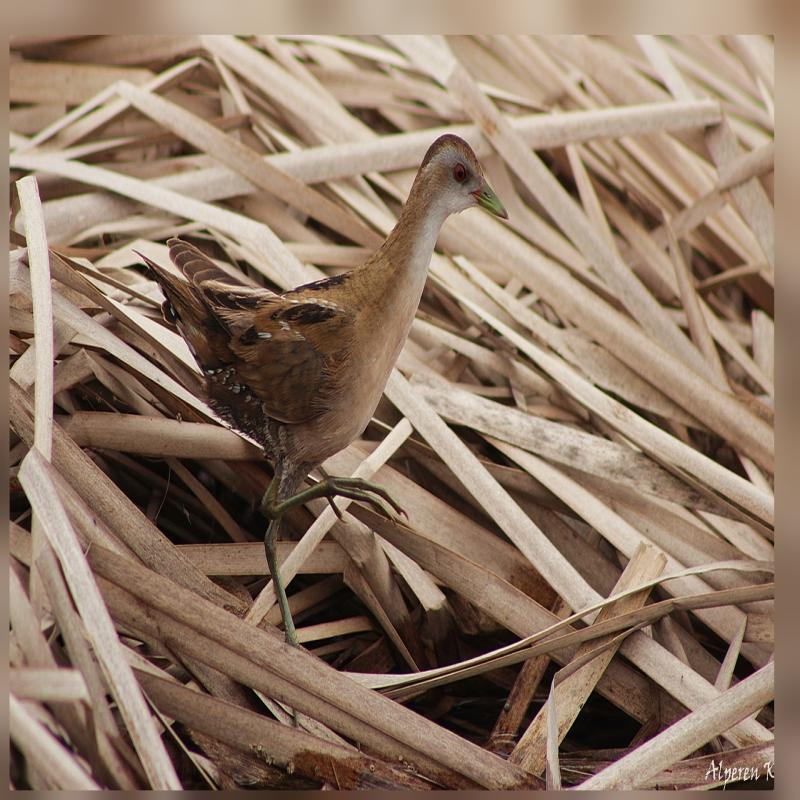little crake: (134, 130, 512, 530)
